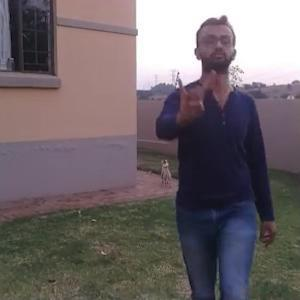takeoff-hand: (169, 61, 217, 122)
